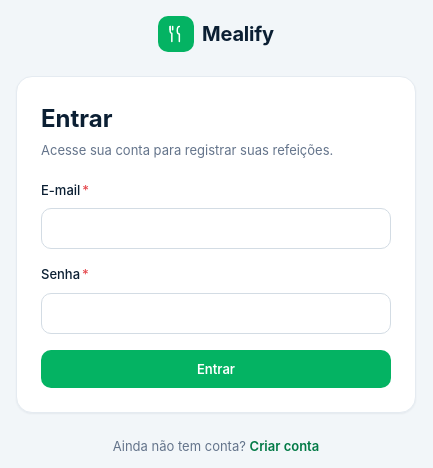
Test: LoginPage › disables the form while logging in
This screenshot has width=433, height=468.
Type "ana@example.com" into the field labelled "E-mail*".
click(216, 228); type("ana@example.com")  # box [41,208,391,249]
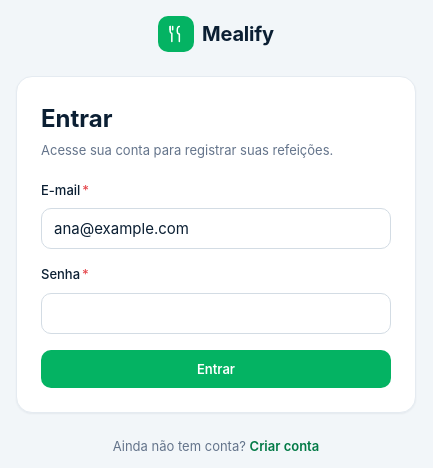
Type "secret pass" into the password field labelled "Senha*".
click(216, 313); type("secret pass")  # box [41,292,391,334]
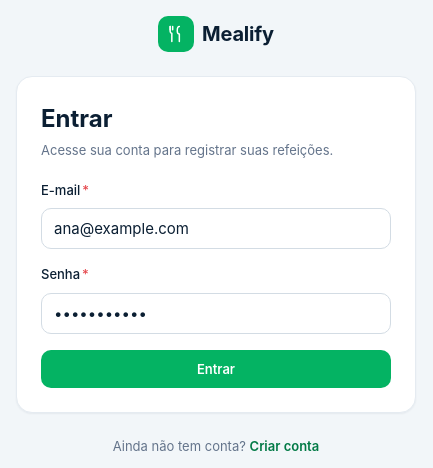
Click the button "Entrar".
click(216, 368)  # box [41,350,391,388]
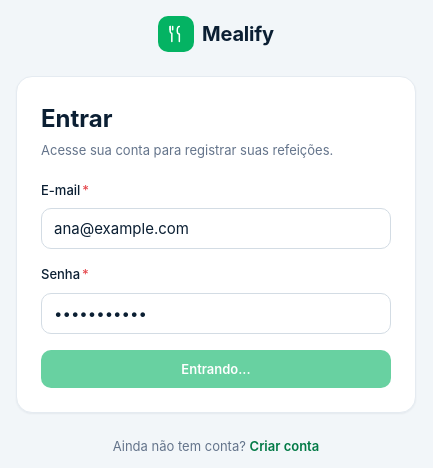
Expected: the button "Entrando..." is disabled, [41,350,391,388]
